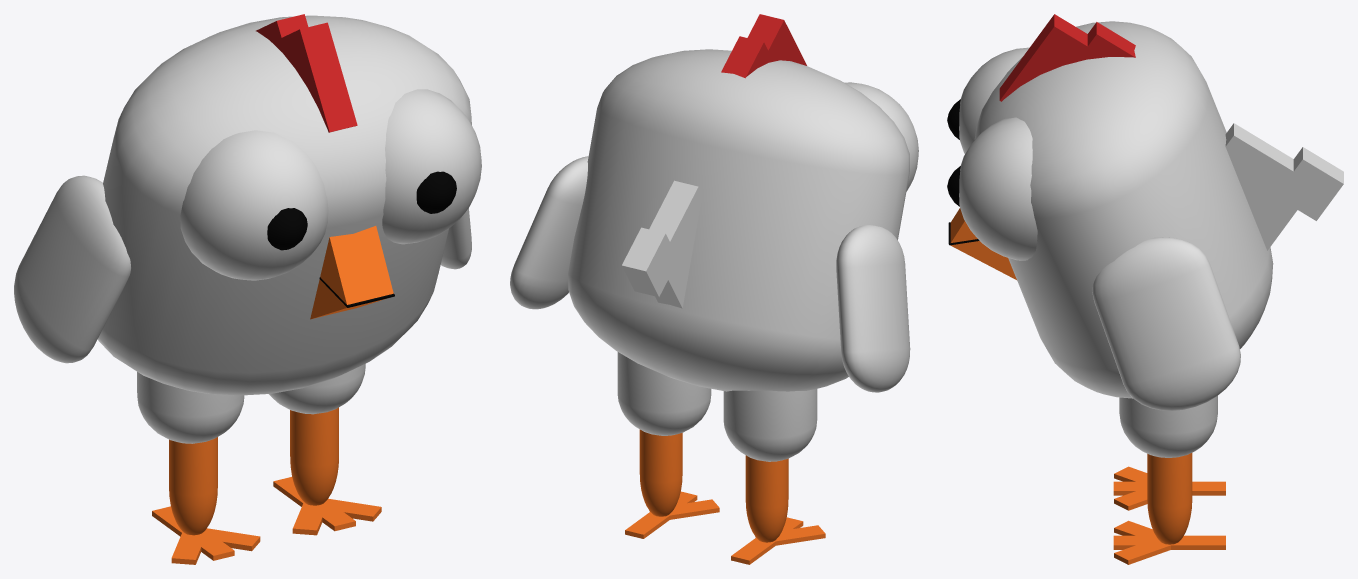
The model's file is Chicken.fbx.
The picture shows the model from 3 angles, left to right: view 1: azimuth 30°, elevation 25°; view 2: azimuth 150°, elevation 25°; view 3: azimuth 270°, elevation 25°; orthographic projection. The views are drawn at different scales.
Visible parts, largest first — view 1: Torso, EyeballR, Wing_R, EyeballL, Beak, Leg_R_top, HeadDecor__1_, Leg_R_middle, Leg_L_middle, Leg_L_top, PupilL, PupilR (+8 smaller); view 2: Torso, Wing_R, Wing_L, Leg_R_top, Leg_L_top, HeadDecor__3_, Leg_R_middle, Leg_L_middle, HeadDecor__4_, HeadDecor__1_, EyeballR, HeadDecor__2_ (+4 smaller); view 3: Torso, Wing_L, EyeballL, HeadDecor__3_, Leg_L_top, Leg_L_middle, HeadDecor__1_, EyeballR, HeadDecor__4_, Beak, HeadDecor__2_, Foot_1 (+3 smaller).
Boxes of the visible parts, x1,y1,x2,y2 form: Torso: (97, 15, 471, 395); EyeballR: (180, 130, 328, 280); Wing_R: (14, 175, 130, 363); EyeballL: (382, 89, 481, 244); Beak: (310, 226, 393, 319); Leg_R_top: (137, 372, 244, 443); HeadDecor__1_: (272, 22, 357, 132); Leg_R_middle: (169, 437, 217, 535); Leg_L_middle: (290, 407, 338, 505); Leg_L_top: (269, 364, 365, 414); PupilL: (416, 171, 456, 213); PupilR: (267, 208, 307, 250); Torso: (568, 49, 909, 391); Wing_R: (836, 225, 910, 392); Wing_L: (510, 156, 588, 309); Leg_R_top: (723, 389, 817, 461); Leg_L_top: (617, 352, 711, 435); HeadDecor__3_: (649, 180, 702, 308); Leg_R_middle: (745, 455, 788, 542); Leg_L_middle: (639, 429, 682, 516); HeadDecor__4_: (622, 227, 677, 296); HeadDecor__1_: (747, 14, 806, 66); EyeballR: (844, 82, 918, 191); HeadDecor__2_: (721, 36, 768, 78); Torso: (974, 21, 1273, 398); Wing_L: (1092, 237, 1240, 410); EyeballL: (959, 117, 1037, 260); HeadDecor__3_: (1225, 123, 1315, 250); Leg_L_top: (1119, 396, 1217, 457); Leg_L_middle: (1147, 453, 1192, 544); HeadDecor__1_: (999, 14, 1104, 101); EyeballR: (959, 47, 1029, 153); HeadDecor__4_: (1290, 147, 1343, 220); Beak: (950, 208, 1016, 279); HeadDecor__2_: (1077, 22, 1135, 61); Foot_1: (1113, 535, 1225, 549).
Bounding box in the file's own units: 57.11 × 69.44 × 50.3.
